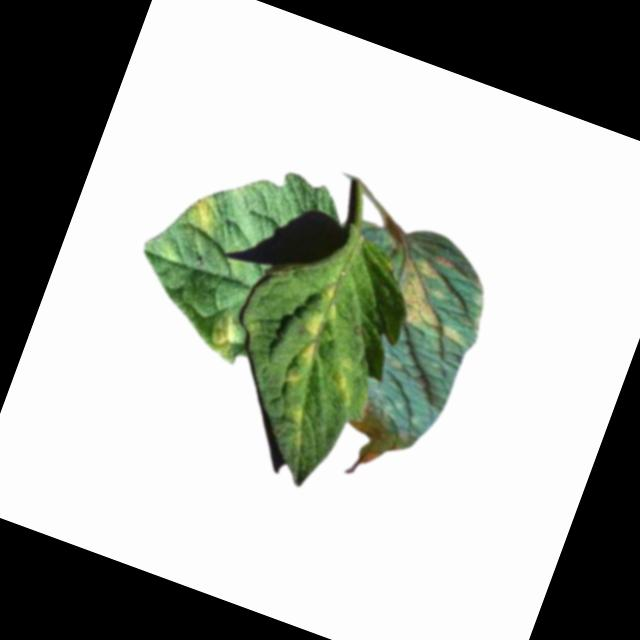Leaf_Mold: (262, 278, 354, 447), (381, 244, 492, 351), (175, 188, 227, 245), (320, 355, 367, 411), (201, 311, 247, 363)
